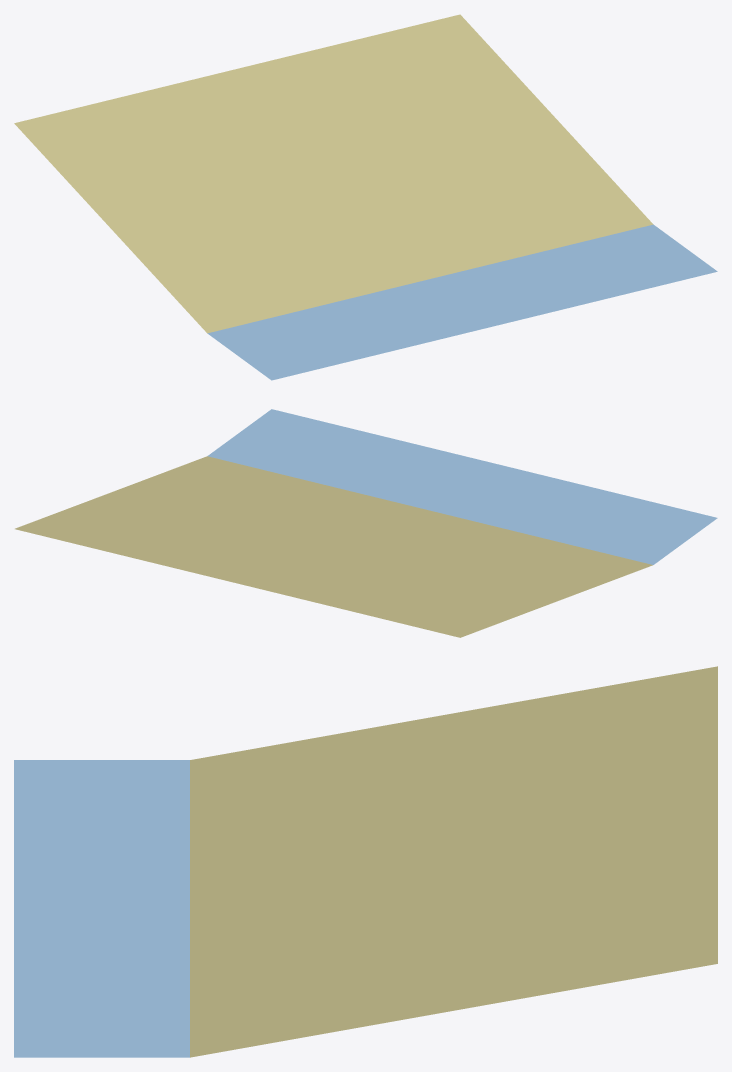
Rendered from beach_tile_1x1_007.glb.
3 views of the same model, one above another, from view 1: azimuth 30°, elevation 25°; view 2: azimuth 150°, elevation 25°; view 3: azimuth 270°, elevation 25° (orthographic). The views are drawn at different scales.
Visible parts, largest first — view 1: beach_tile_1x1_007; view 2: beach_tile_1x1_007; view 3: beach_tile_1x1_007.
Part boxes in pixels (x1,y1,x2,y2): beach_tile_1x1_007: (14,14,717,380); beach_tile_1x1_007: (15,409,717,637); beach_tile_1x1_007: (14,666,717,1057).
Bounding box in the file's own units: 8 × 1.18 × 8.
1 material, 1 textured.
